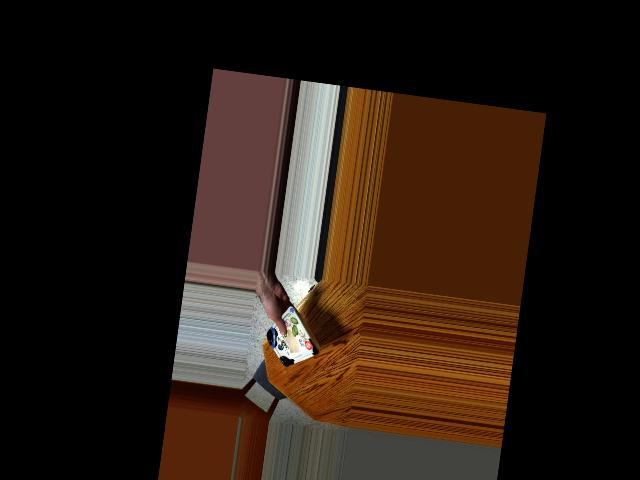cheese: (268, 311, 320, 370)
